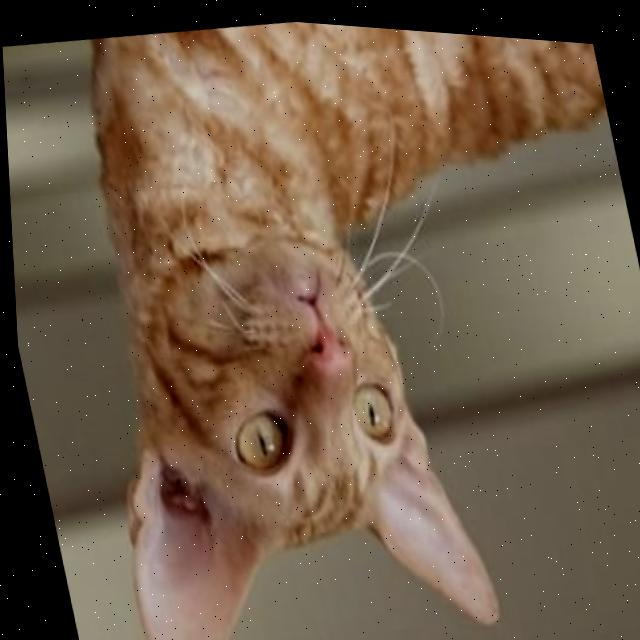Cornish Rex: (12, 1, 640, 640)
